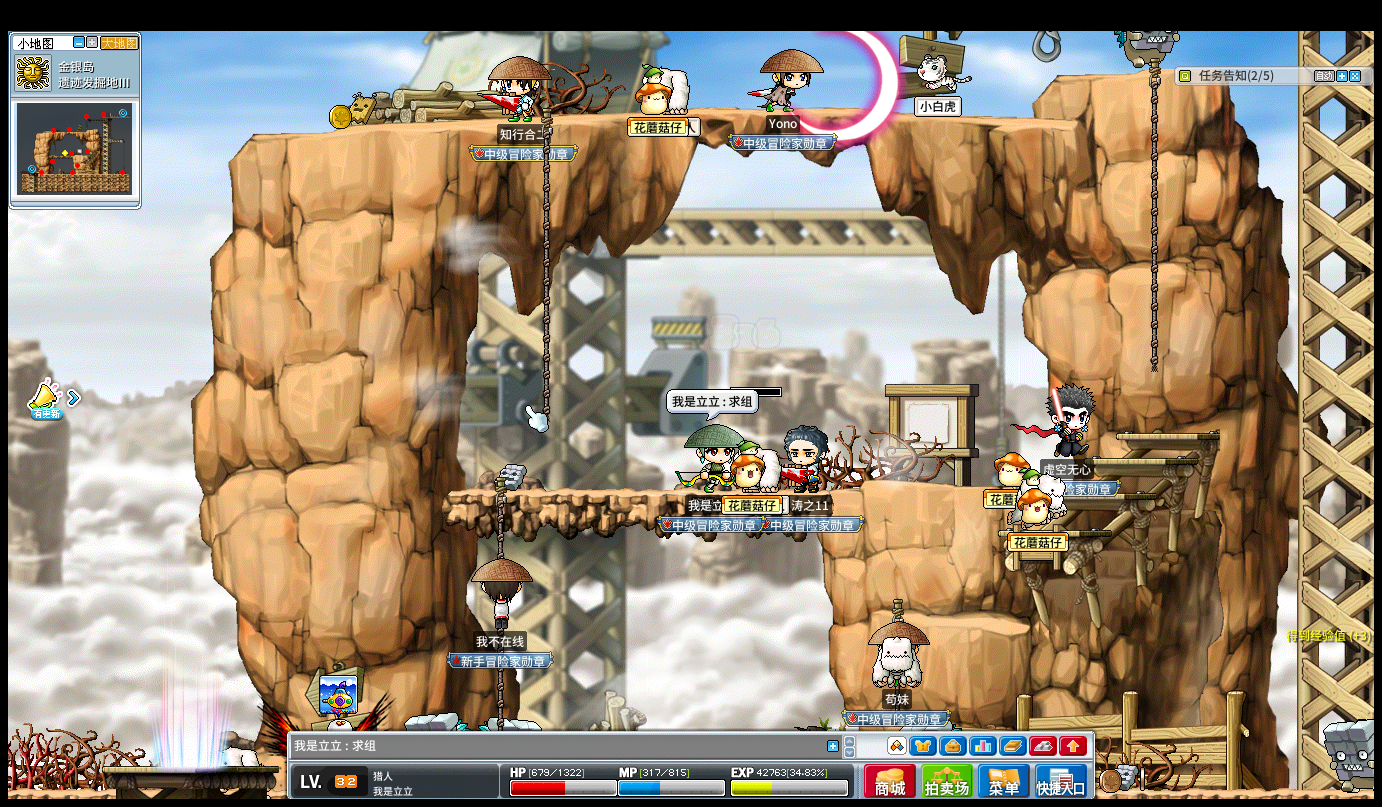floor: (229, 104, 1092, 139), (448, 488, 819, 499), (923, 612, 1028, 634), (1054, 69, 1171, 82), (931, 482, 1078, 491), (1117, 429, 1221, 441), (994, 528, 1111, 537), (1082, 456, 1193, 464), (1063, 492, 1157, 499)
monster: (1324, 717, 1379, 792)
rope: (1147, 56, 1161, 377), (539, 104, 551, 425), (492, 481, 505, 559), (495, 667, 504, 720)
